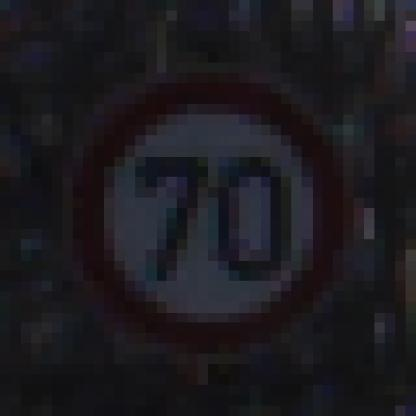Speed Limit 70: (77, 77, 349, 352)
